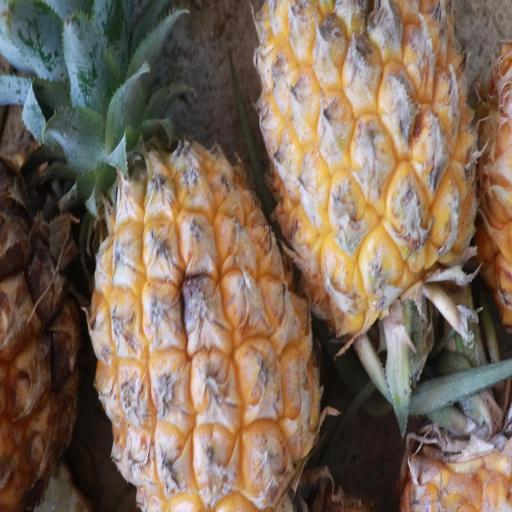Pineapple - v8 v1: (86, 0, 328, 512), (256, 0, 479, 347)
